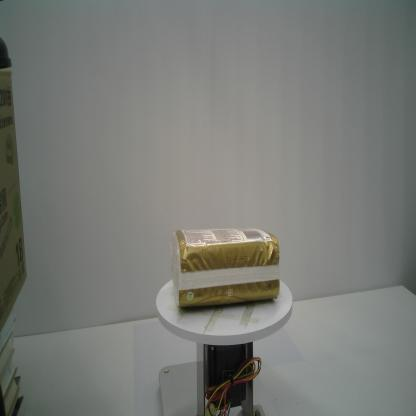Tissue: (170, 227, 280, 309)
